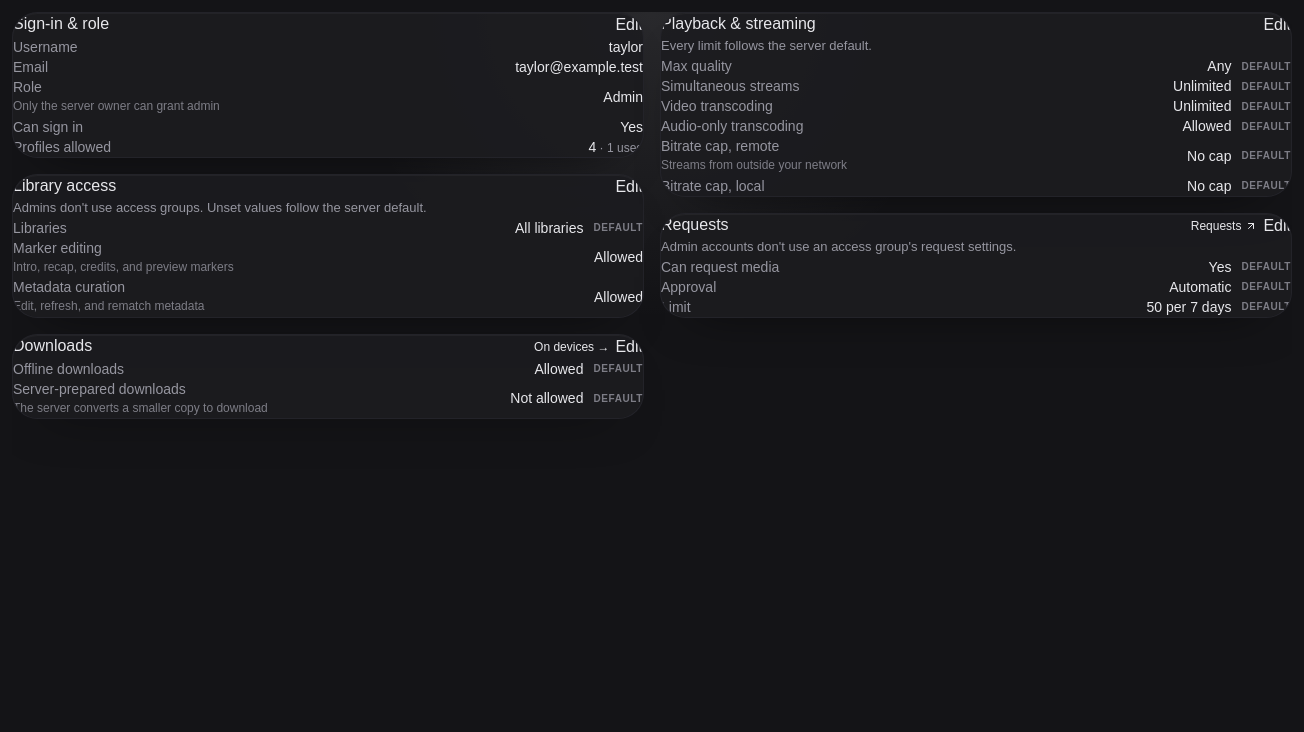
Sign-in & role › keeps an admin from changing its own role or disabling itself
The image size is (1304, 732).
Click the button with aria-label "Edit Sign-in & role" at (629, 25), box [615, 13, 643, 37]
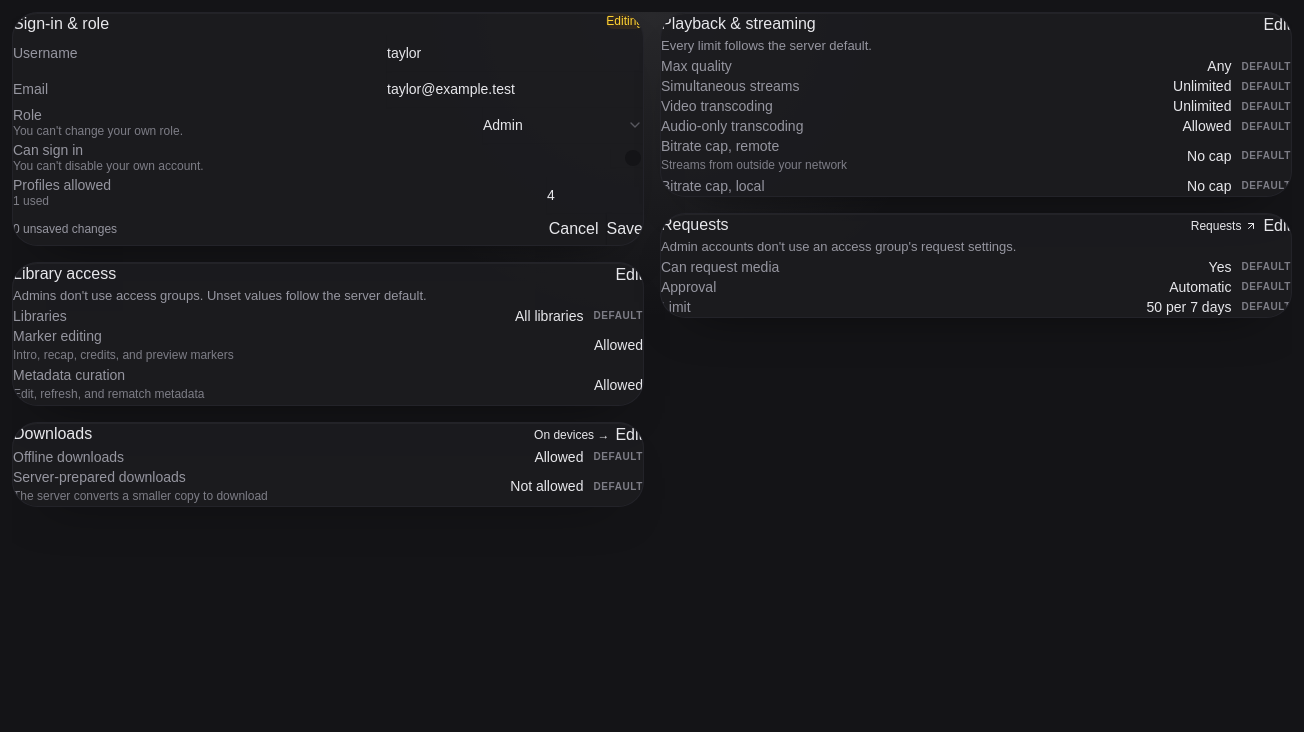
Expected: the dropdown named "Role" is disabled, [483, 107, 643, 143]
Result: the text "You can't change your own role." is shown at [13, 124, 183, 138]
Result: the text "You can't disable your own account." is shown at [13, 159, 204, 173]
